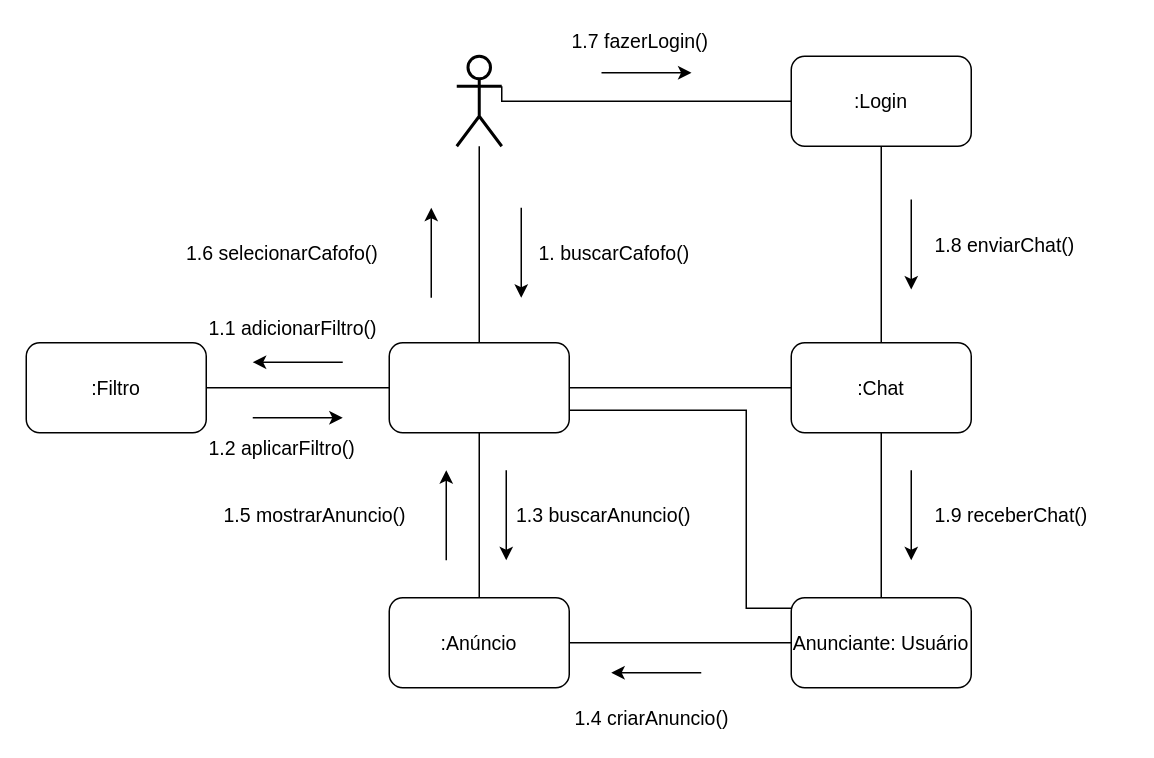
The diagram is 1154 pixels wide and 758 high, and some of its shapes have lost their labels. The shapes that lost their labels are listed below. From the top down, each one's centre as x and y in pixels, then its label:
At (478,100): "Usuário".
At (478,387): ":Cafofo".
